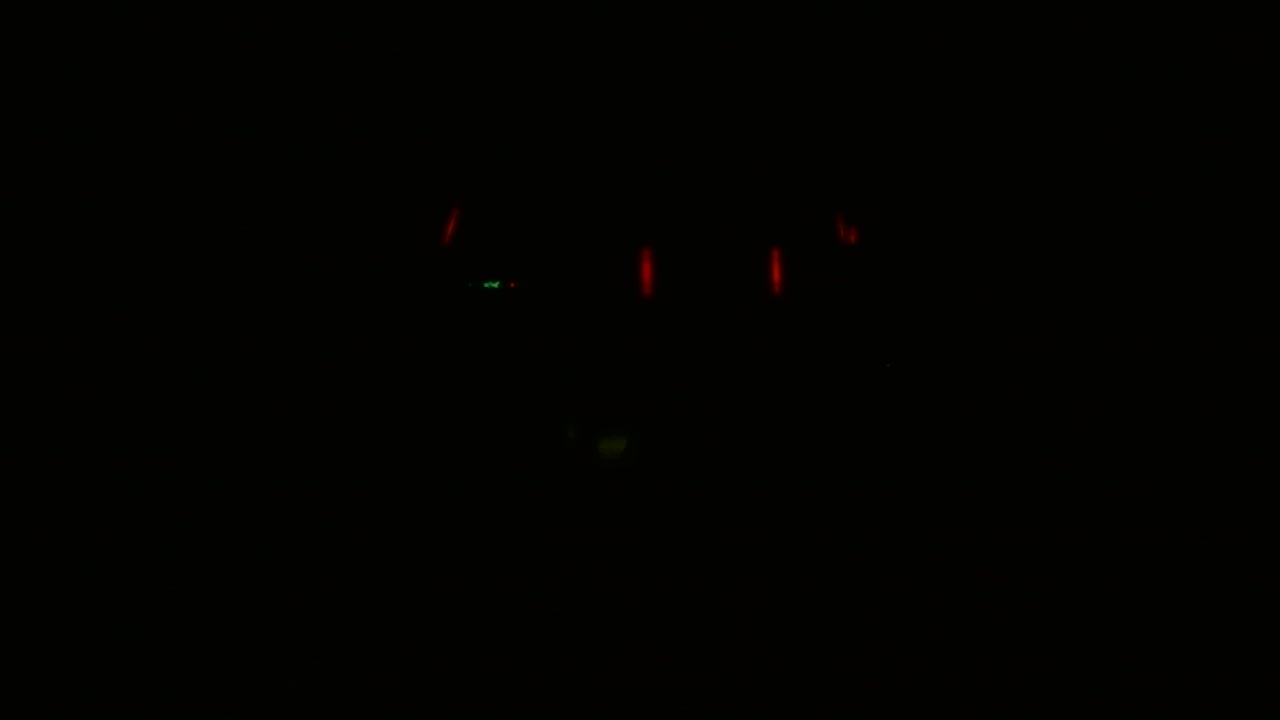pair1: (636, 245, 783, 295)
